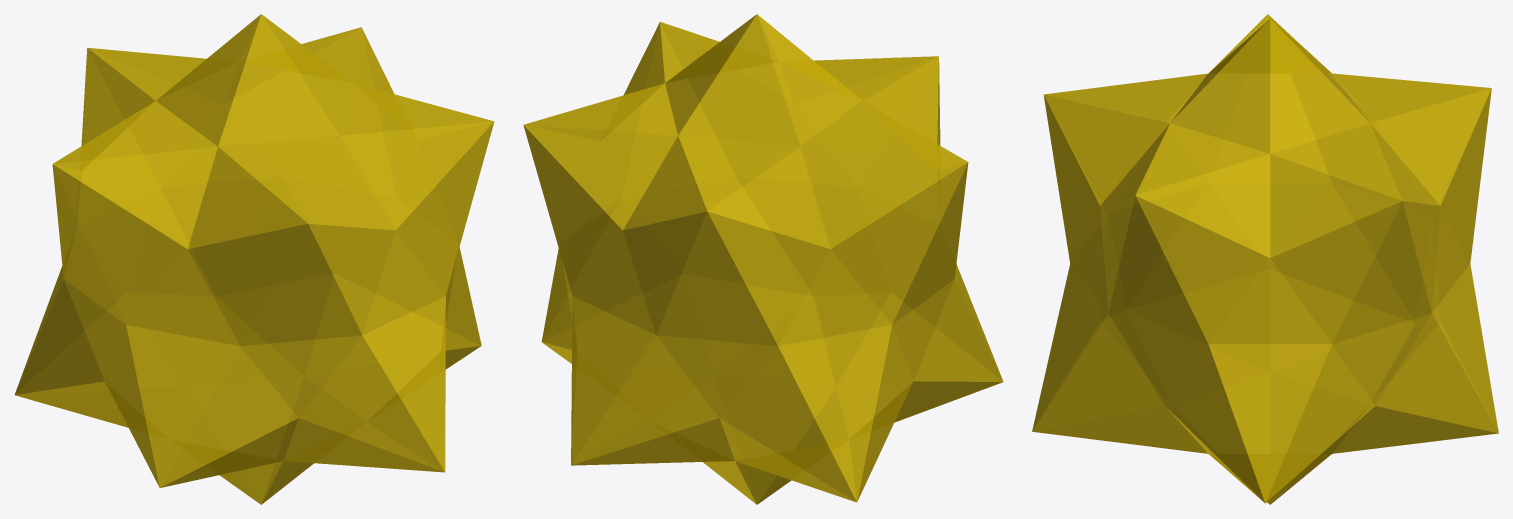
The picture shows the model from 3 angles, left to right: view 1: azimuth 30°, elevation 25°; view 2: azimuth 150°, elevation 25°; view 3: azimuth 270°, elevation 25°; orthographic projection.
Visible parts, largest first — view 1: Icosphere; view 2: Icosphere; view 3: Icosphere.
Part boxes in pixels (bbox=[...]): Icosphere: bbox=[14, 14, 494, 504]; Icosphere: bbox=[523, 14, 1003, 504]; Icosphere: bbox=[1032, 14, 1498, 504].
Bounding box in the file's own units: 245 × 268 × 233.
